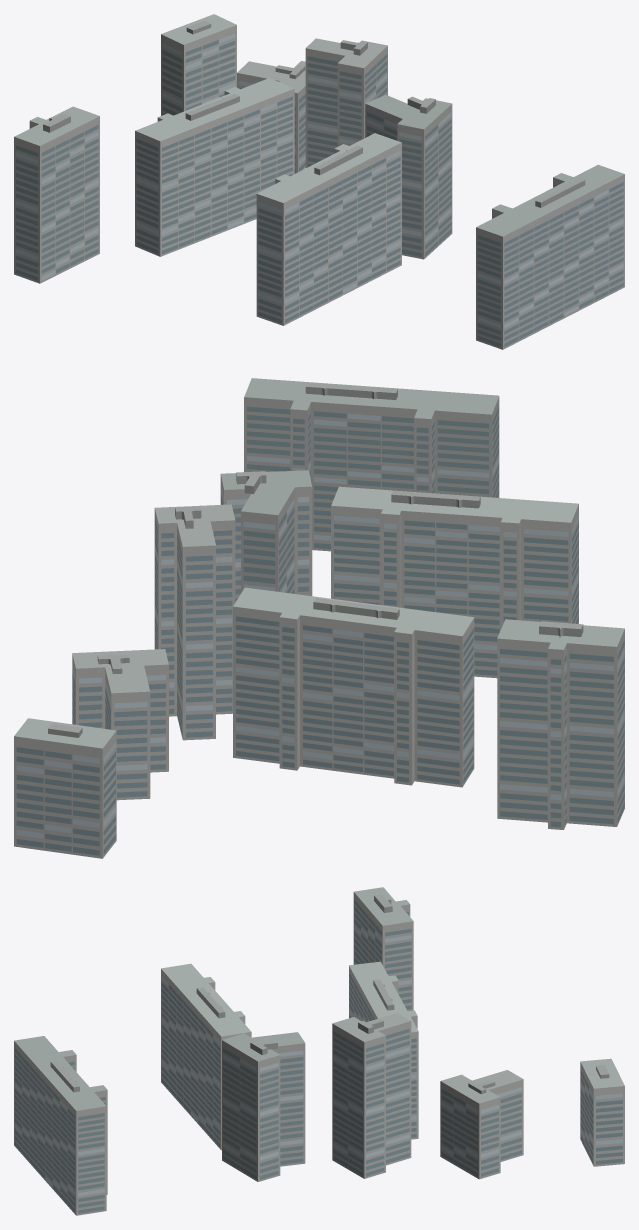
The model's file is apt-a13550701.glb.
3 renders of one model, top to bottom at view 1: azimuth 30°, elevation 25°; view 2: azimuth 150°, elevation 25°; view 3: azimuth 270°, elevation 25°, orthographic. The views are drawn at different scales.
Parts seen in each view (by area): view 1: apt-a13550701; view 2: apt-a13550701; view 3: apt-a13550701.
Boxes of the visible parts, x1,y1,x2,y2 form: apt-a13550701: (14, 14, 624, 349); apt-a13550701: (14, 378, 624, 858); apt-a13550701: (14, 887, 624, 1215).
Size of the model in its own units: 185 by 61 by 237.
